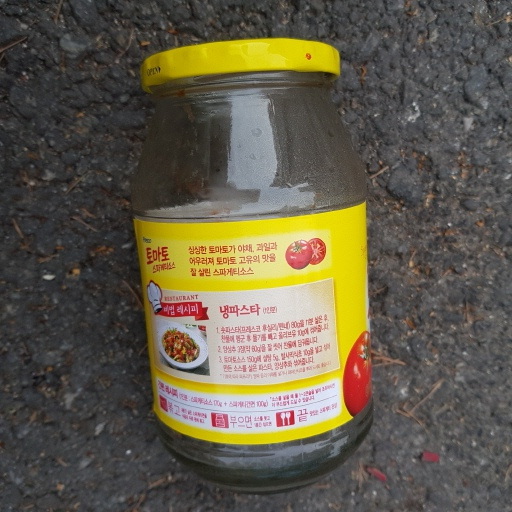Glass_5: (130, 38, 383, 491)
